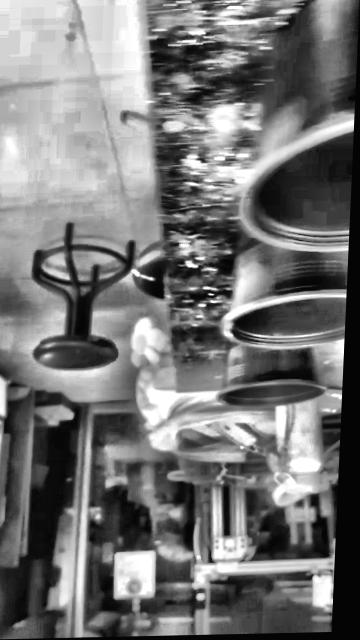pot: (240, 0, 360, 252), (225, 121, 354, 350), (223, 233, 348, 350), (218, 344, 326, 407)
